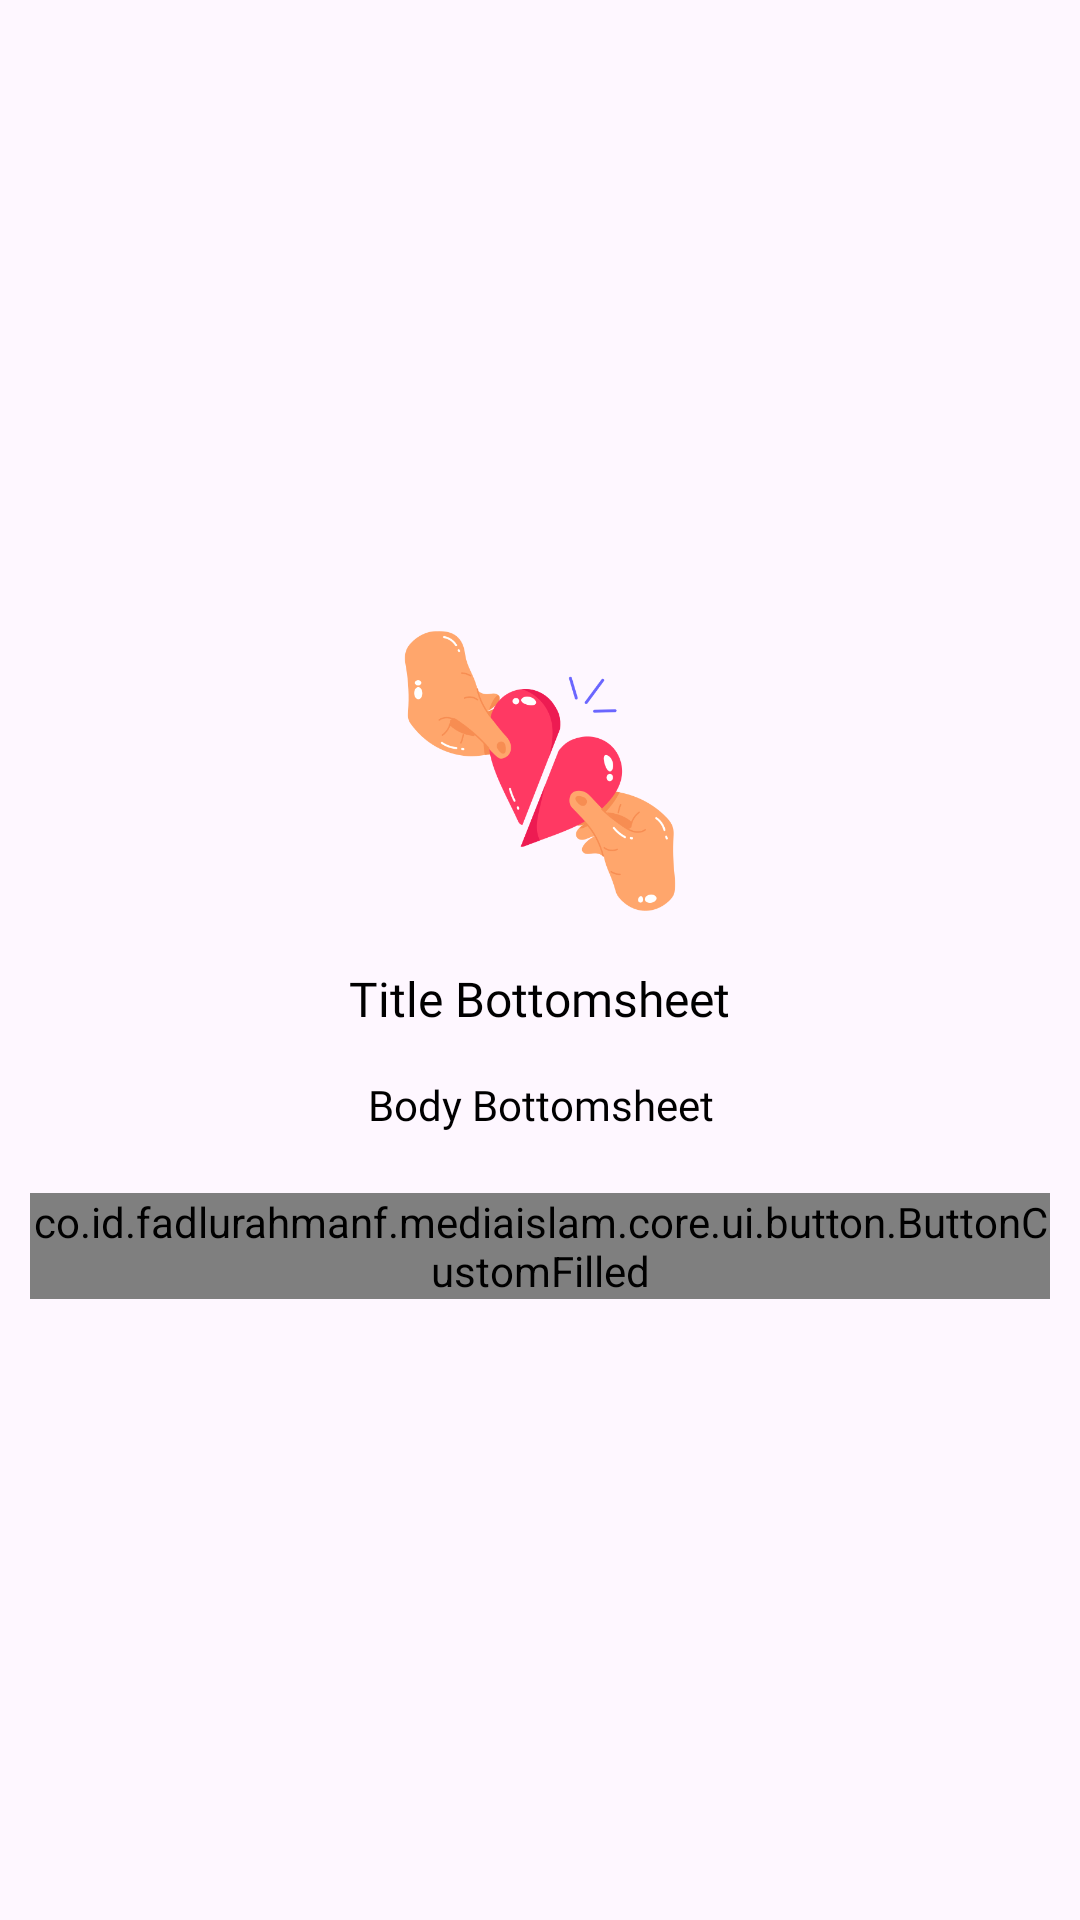

Named icons in this screenshot (1080 x 1920) and their bounding boxes, (x1, y1, x2, y2):
il sad: (405, 631, 675, 911)
